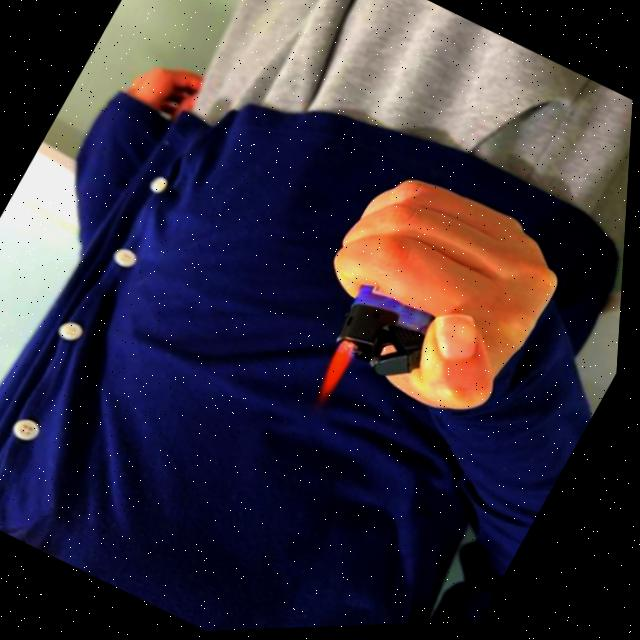Fire: (310, 342, 363, 412)
